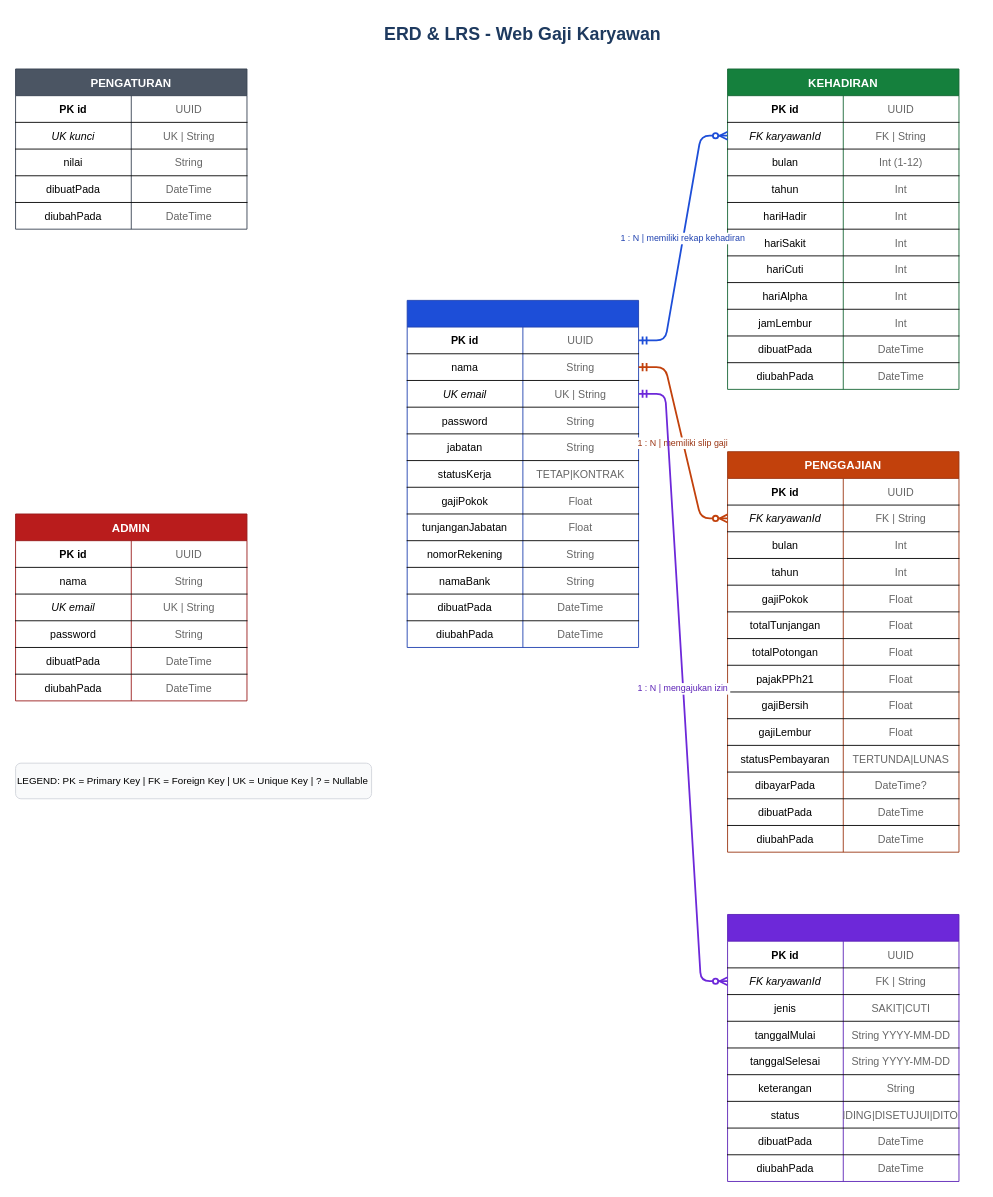
Some shapes in this 993 by 1197 pixel diagram are drawn without their labels. The shapes that lost their labels are listed below. From the top down, each one's box as (x1, y1, x2, y2) in pixels, then its label:
(406, 299, 639, 647): KARYAWAN
(727, 914, 959, 1181): PENGAJUAN_IZIN
